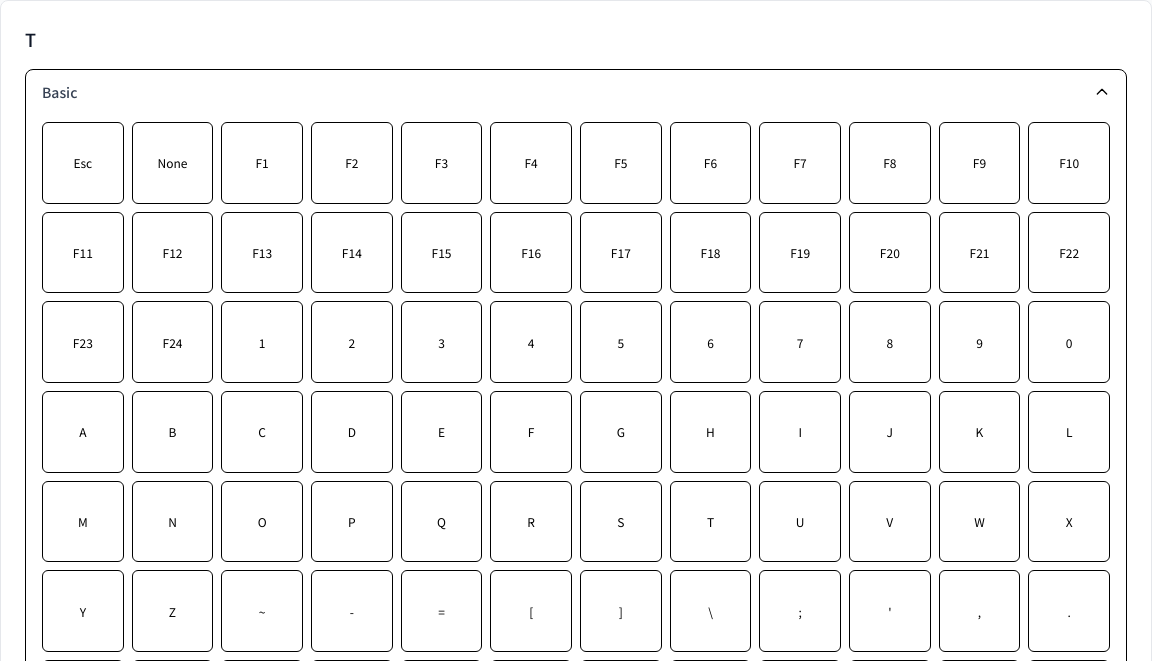
Test: KeycodePicker › slides a section in and out (300 ms, y axis), but not the default one on mount
Step 1. Click the button "Basic" → [60, 92], box [26,70,1126,114]
Wait 300 ms
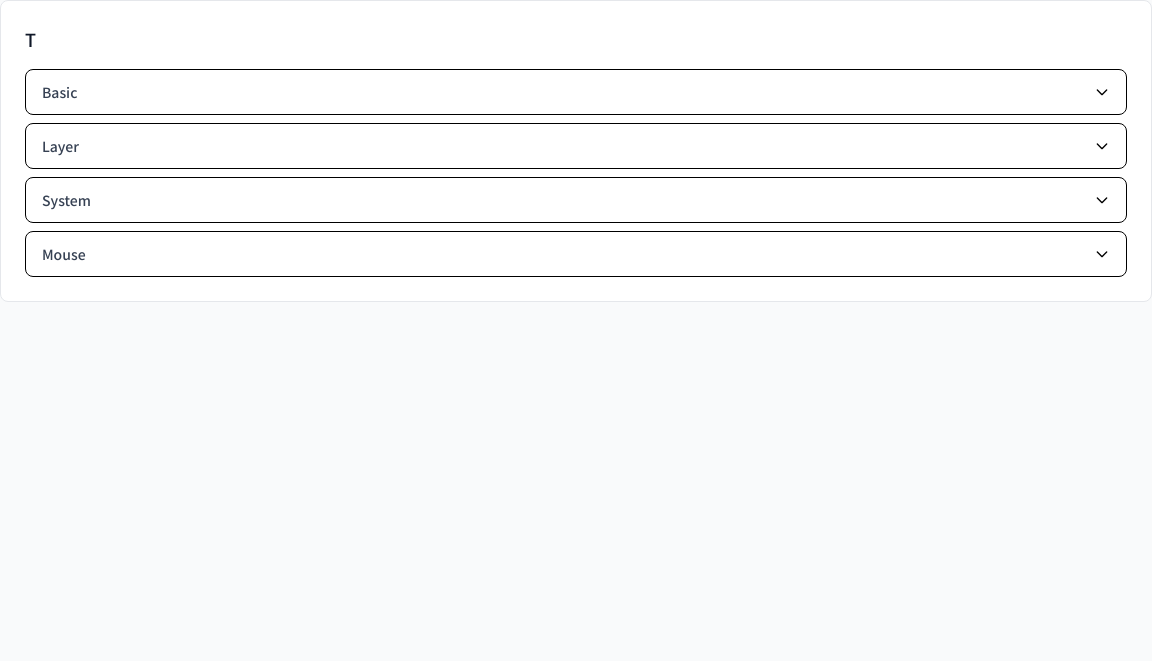
Result: the button "Esc" is gone
Step 2. Click the button "System" → [66, 200], box [26,178,1126,222]
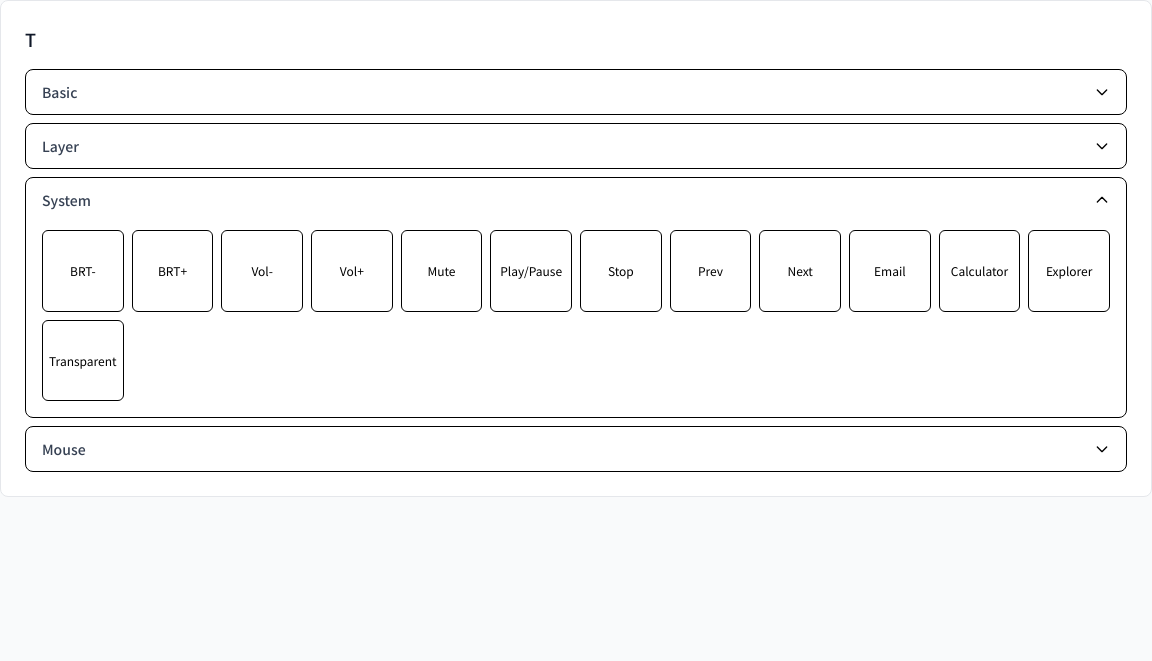
Result: the button "Vol+" is shown at [311,230,393,312]
